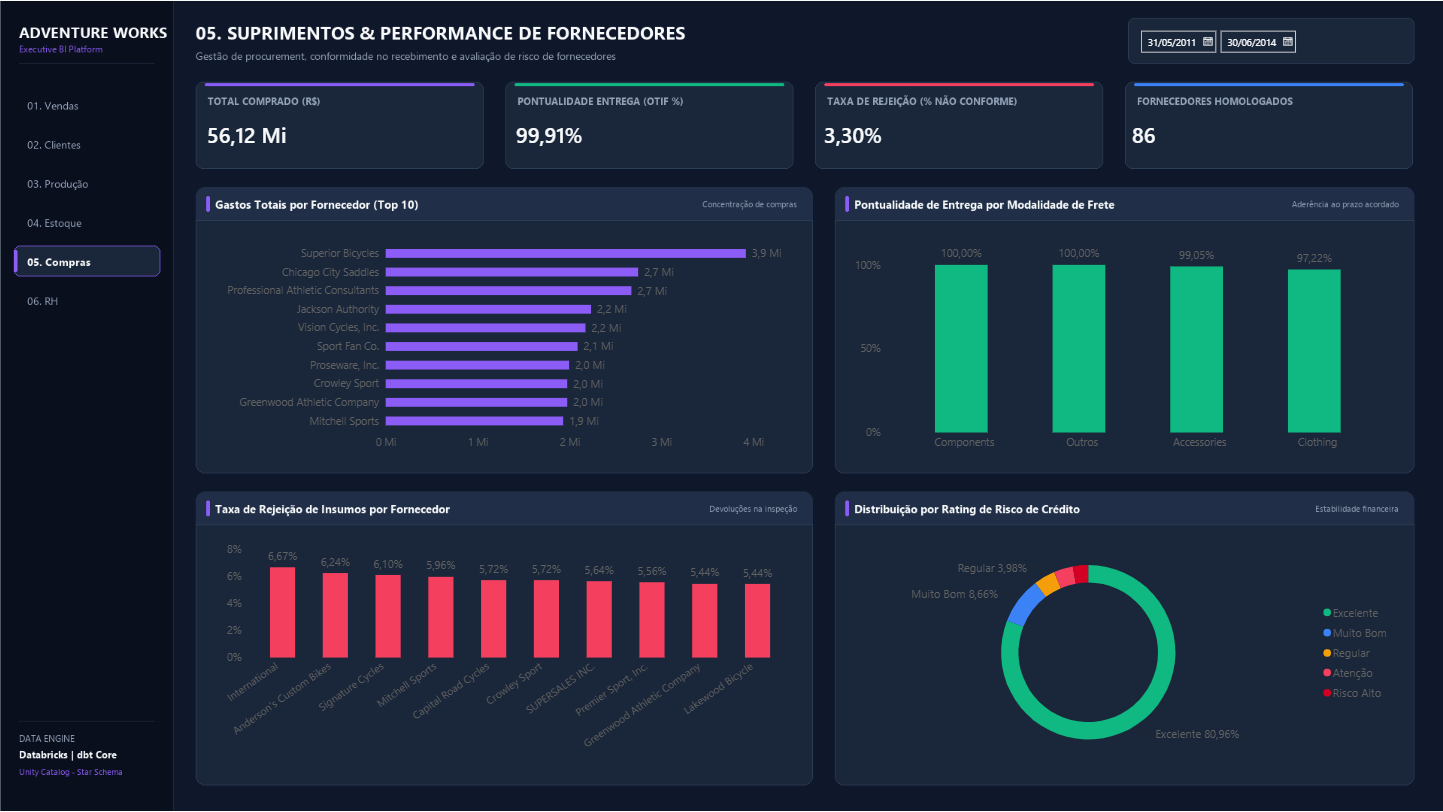

This screenshot's page, from the dashboard's own definition file:
{"tool":"powerbi","page":{"name":"Compras","canvas":[1920,1080],"ordinal":4},"visuals":[{"type":"slicer","fields":{"Values":["dates.calendar_date"]},"box":[1510,35,360,45],"z":0},{"type":"cardVisual","fields":{"Data":["d_Medidas.Total Compras (R$)"]},"box":[260,140,380,75],"z":1000},{"type":"cardVisual","fields":{"Data":["d_Medidas.Pontualidade Fornecedores %"]},"box":[670,140,380,75],"z":2000},{"type":"cardVisual","fields":{"Data":["d_Medidas.Taxa de Rejeição Fornecedores %"]},"box":[1080,140,380,75],"z":3000},{"type":"cardVisual","fields":{"Data":["d_Medidas.Fornecedores Ativos"]},"box":[1490,140,380,75],"z":4000},{"type":"clusteredBarChart","fields":{"Category":["vendors.vendor_name"],"Y":["d_Medidas.Total Compras (R$)"]},"box":[270,298,800,320],"z":5000},{"type":"clusteredColumnChart","fields":{"Category":["products.category_name"],"Y":["d_Medidas.Pontualidade Fornecedores %"]},"box":[1120,298,750,320],"z":6000},{"type":"clusteredColumnChart","fields":{"Category":["vendors.vendor_name"],"Y":["d_Medidas.Taxa de Rejeição Fornecedores %"]},"box":[270,702,800,330],"z":7000},{"type":"donutChart","fields":{"Category":["vendors.credit_rating_description"],"Y":["d_Medidas.Total Compras (R$)"]},"box":[1120,702,750,330],"z":8000}]}

Visuals, with their boxes on the page's 1920x1080 design canvas (x1, y1, x2, y2). These are canvas units, not pixel positions in the 1443x812 screenshot, which may show the page scaled, cropped or inside an application window:
slicer - dates.calendar_date: 1510:35:1870:80
cardVisual - d_Medidas.Total Compras (R$): 260:140:640:215
cardVisual - d_Medidas.Pontualidade Fornecedores %: 670:140:1050:215
cardVisual - d_Medidas.Taxa de Rejeição Fornecedores %: 1080:140:1460:215
cardVisual - d_Medidas.Fornecedores Ativos: 1490:140:1870:215
clusteredBarChart - vendors.vendor_name x d_Medidas.Total Compras (R$): 270:298:1070:618
clusteredColumnChart - products.category_name x d_Medidas.Pontualidade Fornecedores %: 1120:298:1870:618
clusteredColumnChart - vendors.vendor_name x d_Medidas.Taxa de Rejeição Fornecedores %: 270:702:1070:1032
donutChart - vendors.credit_rating_description x d_Medidas.Total Compras (R$): 1120:702:1870:1032
